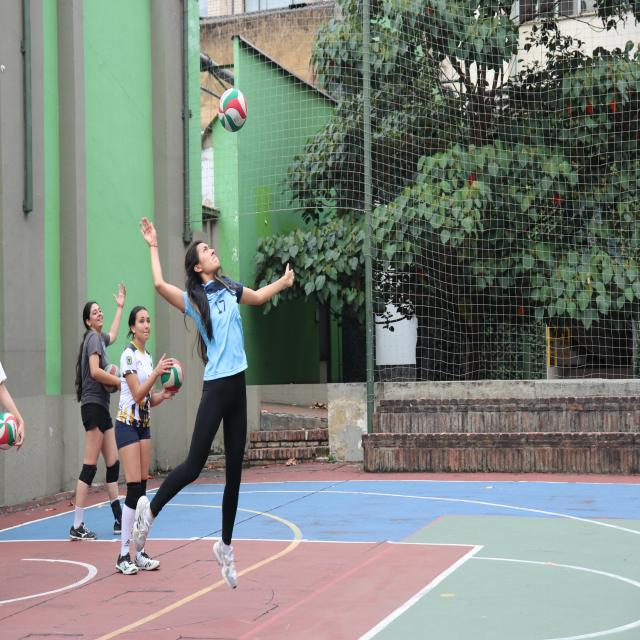volleyball: (218, 89, 248, 132), (160, 358, 184, 393), (0, 412, 18, 451), (104, 363, 121, 378)
